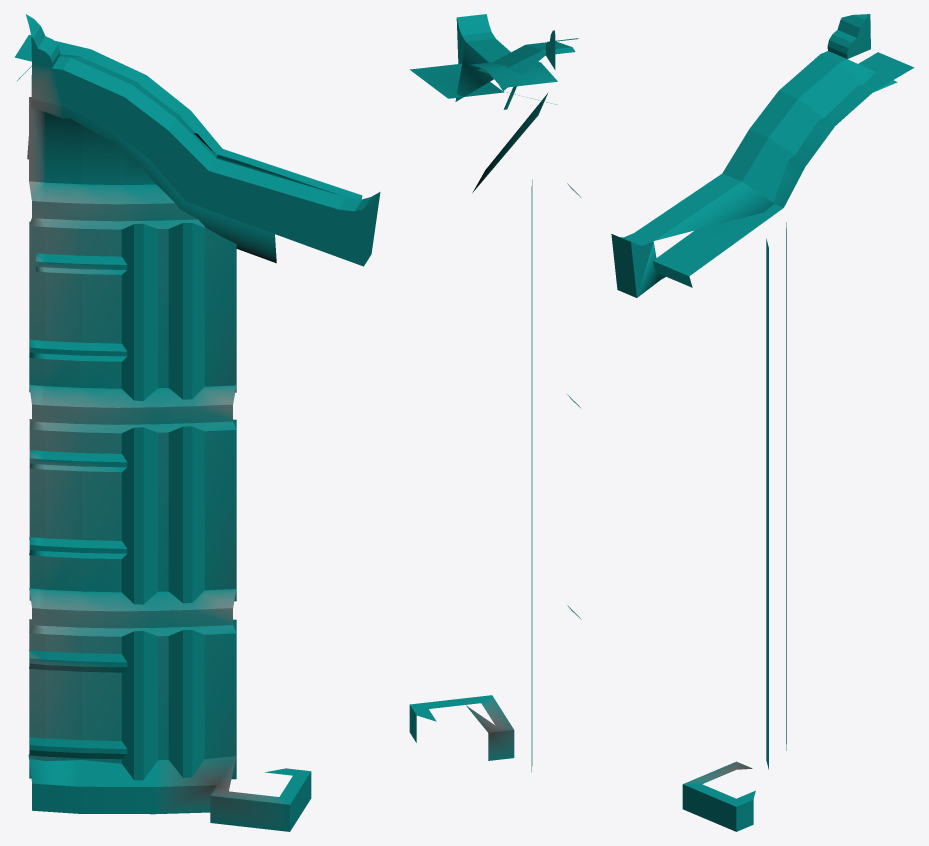
Rendered from COL_SM_ENV_KNVLLG03_AreaF_BuildingA_3.gltf.
3 views of the same model, side by side, from view 1: azimuth 30°, elevation 25°; view 2: azimuth 150°, elevation 25°; view 3: azimuth 270°, elevation 25° (orthographic). The views are drawn at different scales.
Parts seen in each view (by area): view 1: COL_SM_ENV_KNVLLG03_AreaF_BuildingA_3; view 2: COL_SM_ENV_KNVLLG03_AreaF_BuildingA_3; view 3: COL_SM_ENV_KNVLLG03_AreaF_BuildingA_3.
Part boxes in pixels (x1=…): COL_SM_ENV_KNVLLG03_AreaF_BuildingA_3: x1=14, y1=14, x2=380, y2=831; COL_SM_ENV_KNVLLG03_AreaF_BuildingA_3: x1=409, y1=14, x2=581, y2=772; COL_SM_ENV_KNVLLG03_AreaF_BuildingA_3: x1=611, y1=14, x2=914, y2=831.
Bounding box in the file's own units: 7.68 × 23.08 × 8.79.
